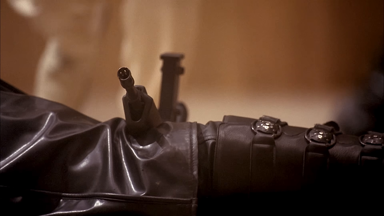firearm: (112, 48, 190, 137)
